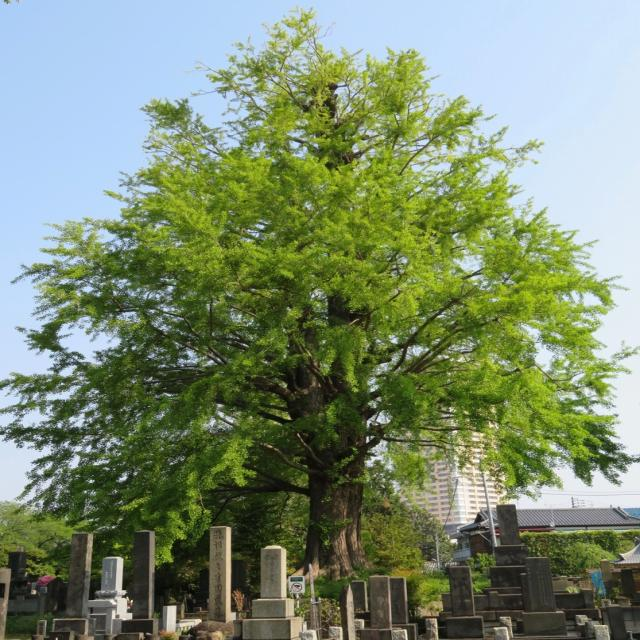ginkgo: (0, 6, 640, 583)
